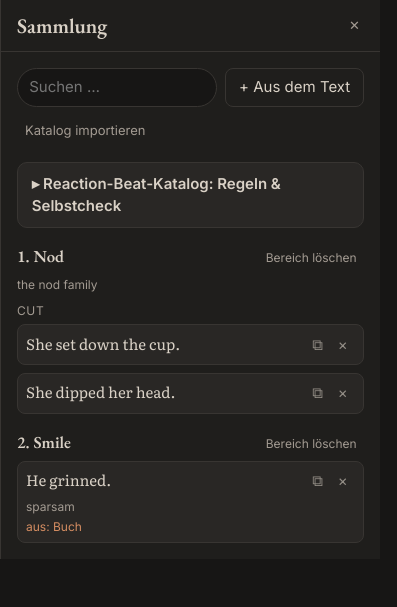
Test: a whole category can be deleted after asking in its heading; cancel keeps it
Click the button with aria-label "Bereich „1. Nod“ löschen".
click(311, 258)  # box x1=258 y1=245 x2=364 y2=272
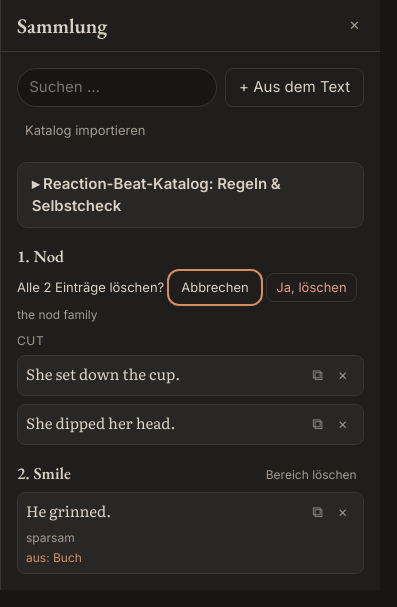
Expected: the text "Alle 2 Einträge löschen?" is shown, x1=17 y1=278 x2=164 y2=297
Click the button "Abbrechen".
click(215, 287)  # box x1=171 y1=273 x2=259 y2=302
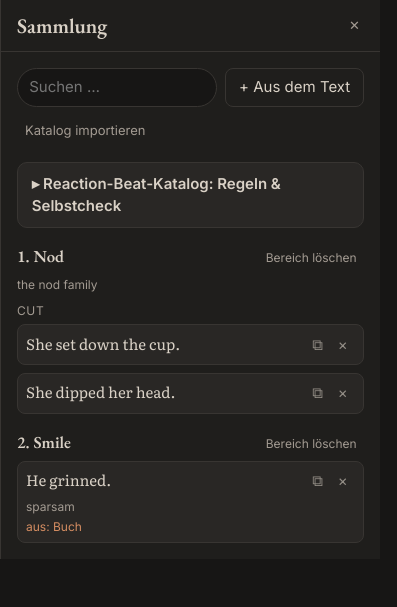
Expected: the text "Alle 2 Einträge löschen?" is gone
Type "cup" into the search field named "Sammlung durchsuchen".
click(117, 88); type("cup")  # box x1=17 y1=68 x2=217 y2=107
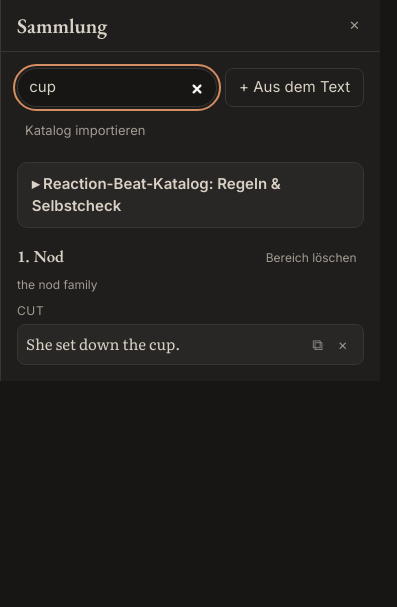
Click the button with aria-label "Bereich „1. Nod“ löschen".
click(311, 258)  # box x1=258 y1=245 x2=364 y2=272
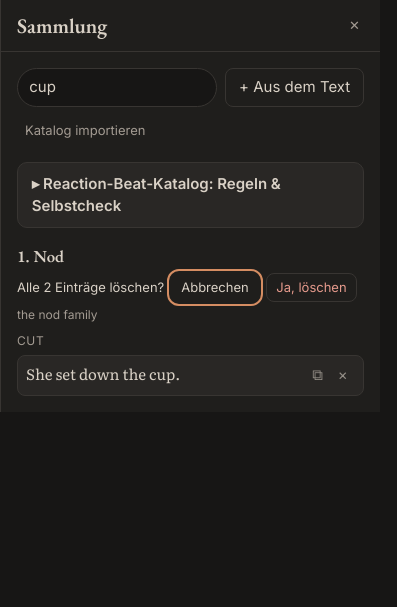
Expected: the text "Alle 2 Einträge löschen?" is shown, x1=17 y1=278 x2=164 y2=297
Click the button "Ja, löschen".
click(311, 287)  # box x1=266 y1=273 x2=357 y2=302
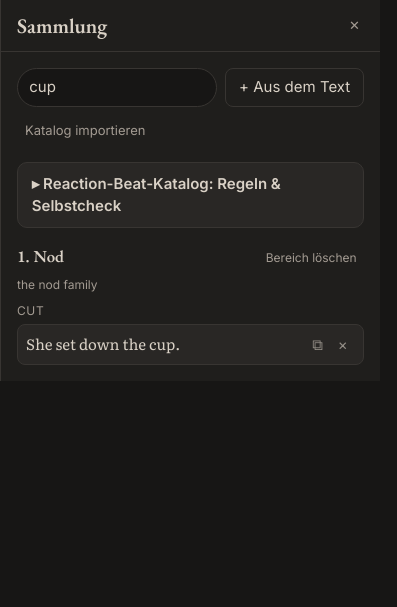
Expected: the text "Alle 2 Einträge löschen?" is gone
